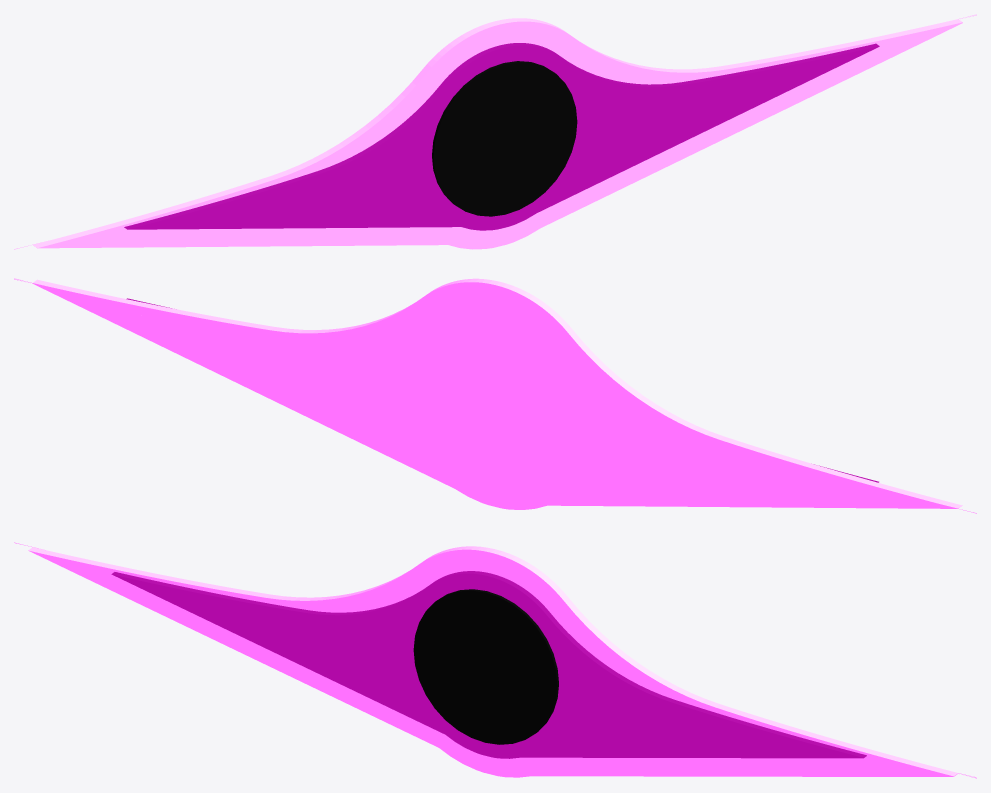
Rendered from blackhole.fbx.
The picture shows the model from 3 angles, top to bottom: view 1: azimuth 30°, elevation 25°; view 2: azimuth 150°, elevation 25°; view 3: azimuth 330°, elevation 25°; orthographic projection.
Visible parts, largest first — view 1: Curve.002; view 2: Curve.002; view 3: Curve.002.
Boxes of the visible parts, x1,y1,x2,y2 form: Curve.002: (14,14,976,249); Curve.002: (14,278,976,513); Curve.002: (14,542,976,778).
Bounding box in the file's own units: 881 × 194 × 15.86.
